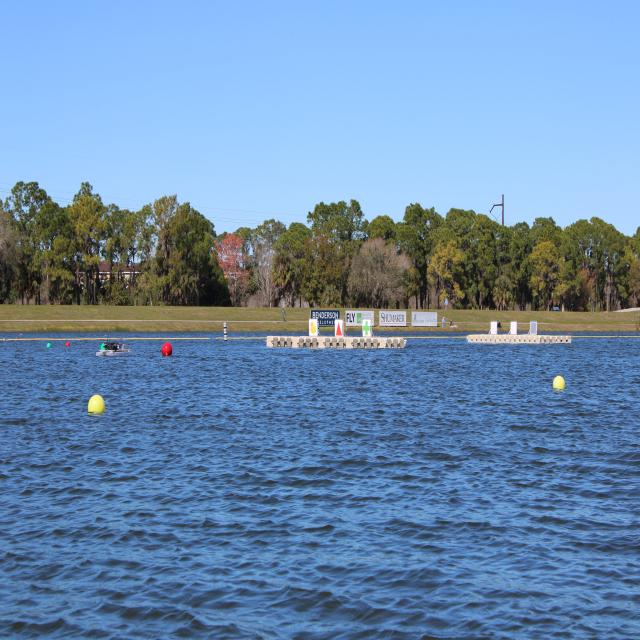blue-cross: (361, 318, 372, 338)
red-buoy: (163, 343, 174, 358)
red-dot: (334, 320, 342, 340)
yellow-buoy: (86, 397, 105, 417), (554, 376, 566, 392)
yellow-duck: (307, 318, 319, 337)
